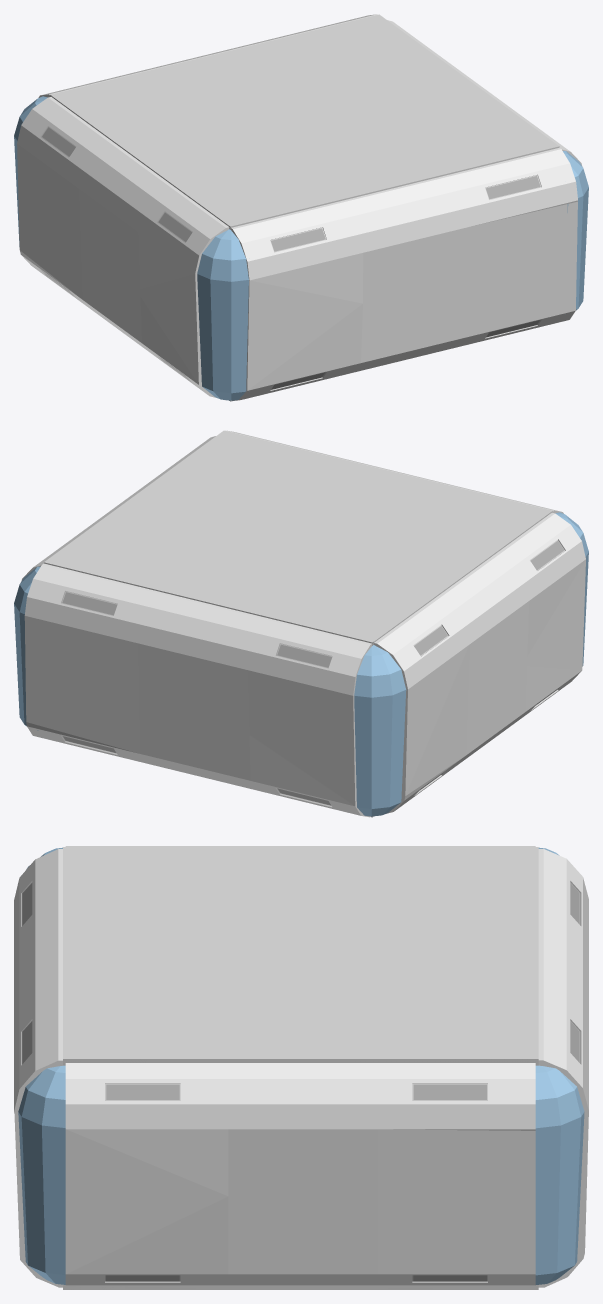
3 views of the same model, one above another, from view 1: azimuth 30°, elevation 25°; view 2: azimuth 150°, elevation 25°; view 3: azimuth 270°, elevation 25° (orthographic). The views are drawn at different scales.
Visible parts, largest first — view 1: Sphere; view 2: Sphere; view 3: Sphere.
Boxes of the visible parts, <box> form: Sphere: <box>14,14,588,401</box>; Sphere: <box>14,430,588,817</box>; Sphere: <box>14,846,588,1289</box>.
Size of the model in its own units: 1476 by 633 by 1429.
